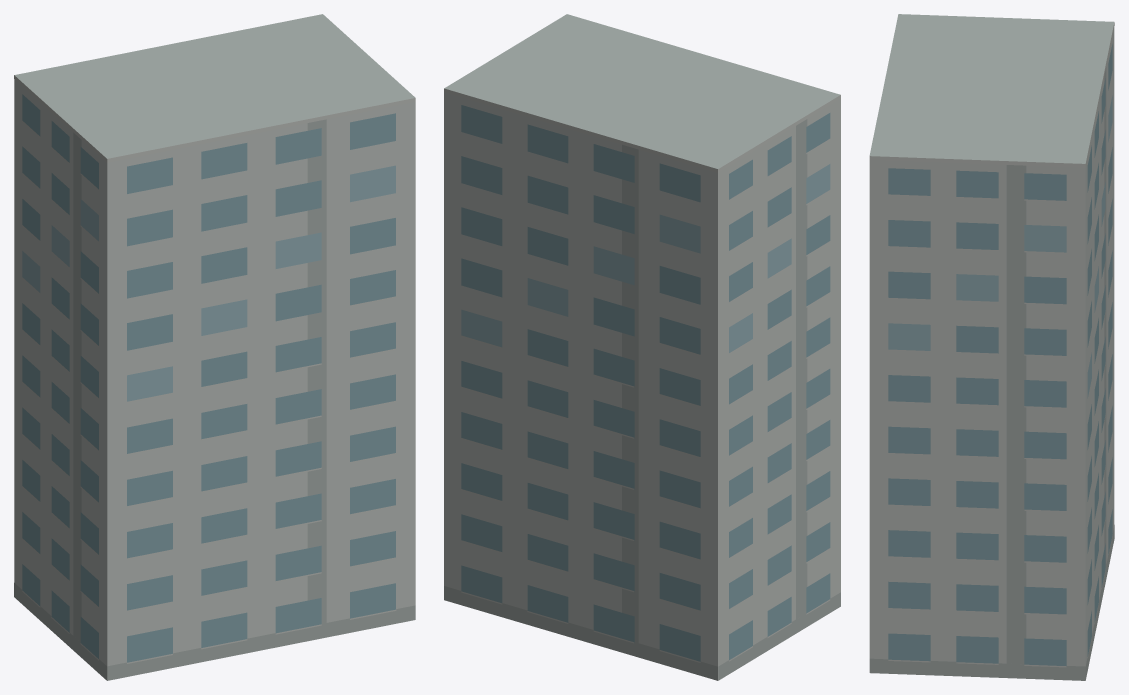
File: residential-312e5a30-1196-4934-9be3-4ddde1f3ec08.glb
3 renders of one model, left to right at view 1: azimuth 30°, elevation 25°; view 2: azimuth 150°, elevation 25°; view 3: azimuth 270°, elevation 25°, orthographic. The views are drawn at different scales.
Parts seen in each view (by area): view 1: residential-312e5a30-1196-4934-9be3-4ddde1f3ec08.tmp; view 2: residential-312e5a30-1196-4934-9be3-4ddde1f3ec08.tmp; view 3: residential-312e5a30-1196-4934-9be3-4ddde1f3ec08.tmp.
Part boxes in pixels (x1,y1,x2,y2): residential-312e5a30-1196-4934-9be3-4ddde1f3ec08.tmp: (14, 14, 415, 680); residential-312e5a30-1196-4934-9be3-4ddde1f3ec08.tmp: (444, 14, 840, 680); residential-312e5a30-1196-4934-9be3-4ddde1f3ec08.tmp: (869, 14, 1114, 680).
Bounding box in the file's own units: 20.53 × 33 × 14.18.
